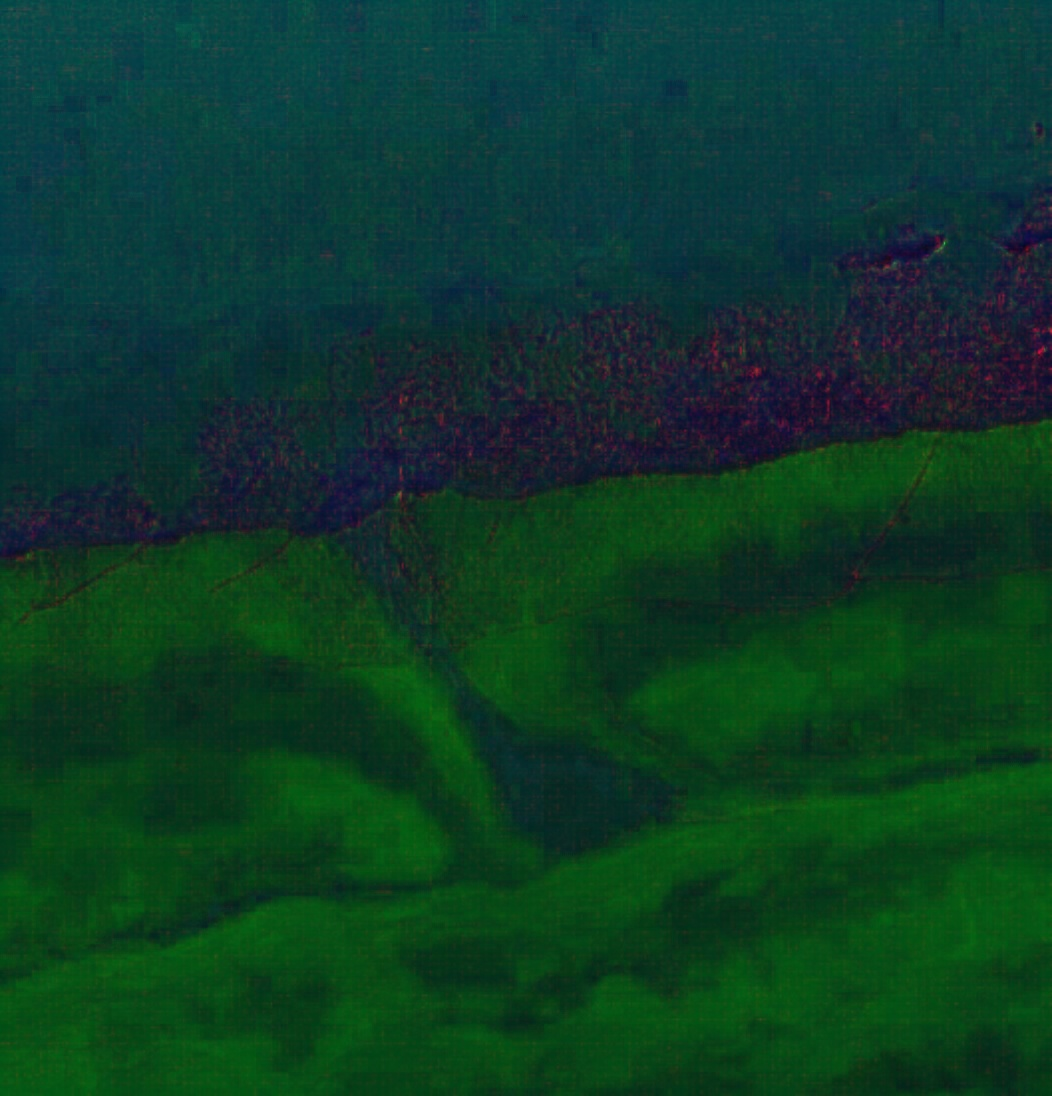rip_current: (276, 384, 465, 625)
